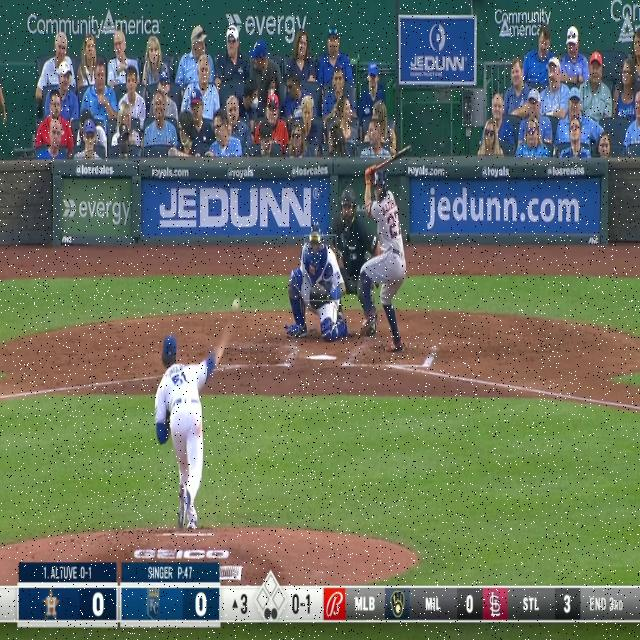baseball: (232, 298, 240, 312)
